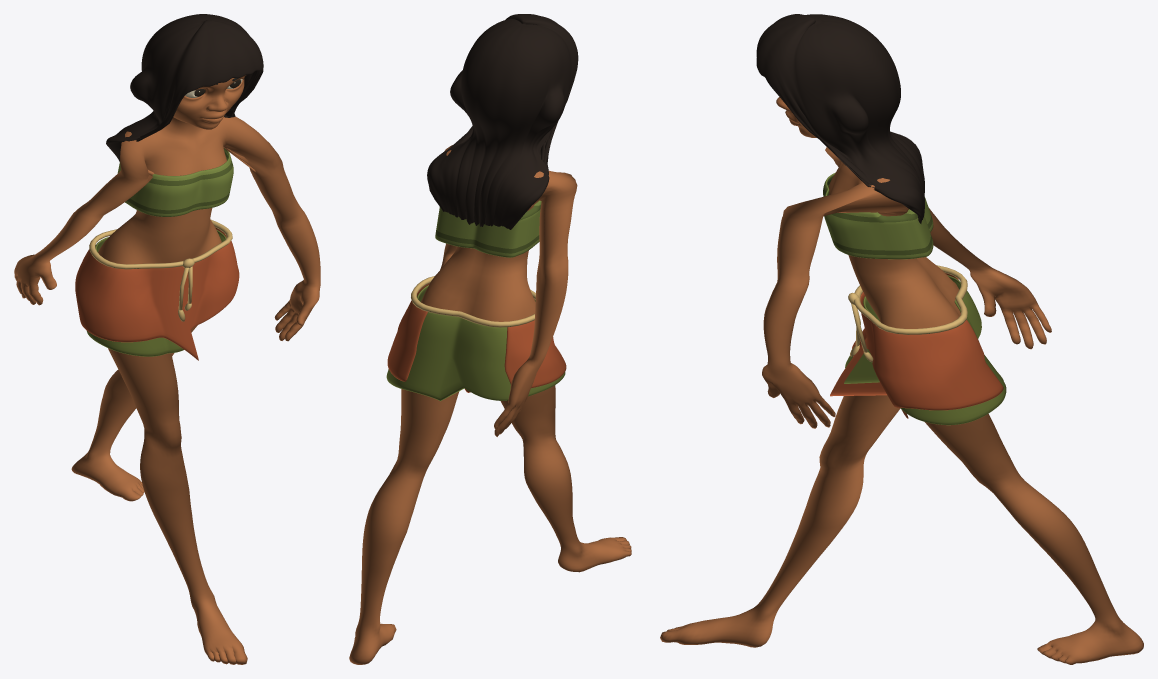
File: mulher_02.glb
The picture shows the model from 3 angles, left to right: view 1: azimuth 30°, elevation 25°; view 2: azimuth 150°, elevation 25°; view 3: azimuth 270°, elevation 25°; orthographic projection. The views are drawn at different scales.
Parts seen in each view (by area): view 1: mulher_02_corpo; view 2: mulher_02_corpo; view 3: mulher_02_corpo.
Part boxes in pixels (left/top/right/bottom): mulher_02_corpo: left=14, top=14, right=320, bottom=664; mulher_02_corpo: left=349, top=14, right=631, bottom=664; mulher_02_corpo: left=660, top=14, right=1143, bottom=664.
Size of the model in its own units: 0.5407 by 1.57 by 1.07.
